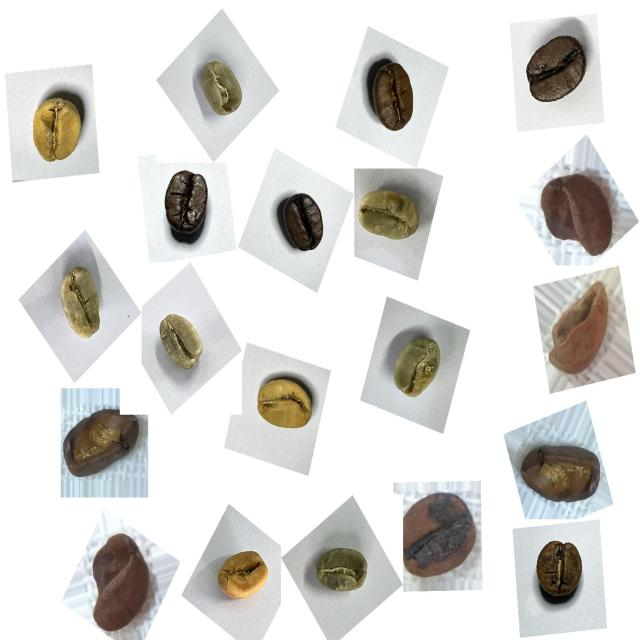bad: (390, 484, 483, 594), (531, 160, 623, 266), (79, 522, 163, 637), (537, 272, 619, 388), (58, 398, 147, 492), (517, 428, 606, 518)
dark: (151, 162, 221, 251), (271, 182, 335, 262)
green: (381, 324, 455, 415), (46, 260, 115, 354), (351, 175, 430, 256), (189, 52, 254, 131), (150, 304, 213, 385), (308, 534, 378, 606)
light: (21, 78, 95, 175), (248, 360, 322, 445), (210, 539, 278, 614)
medium: (358, 52, 428, 146), (524, 529, 595, 614)
